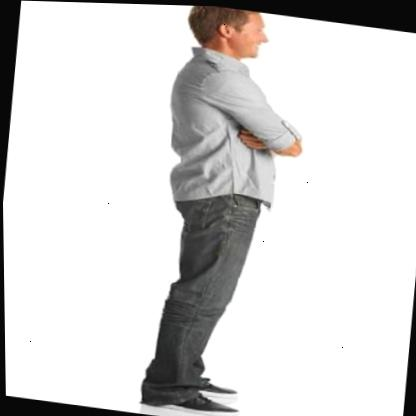person: (116, 3, 295, 416)
